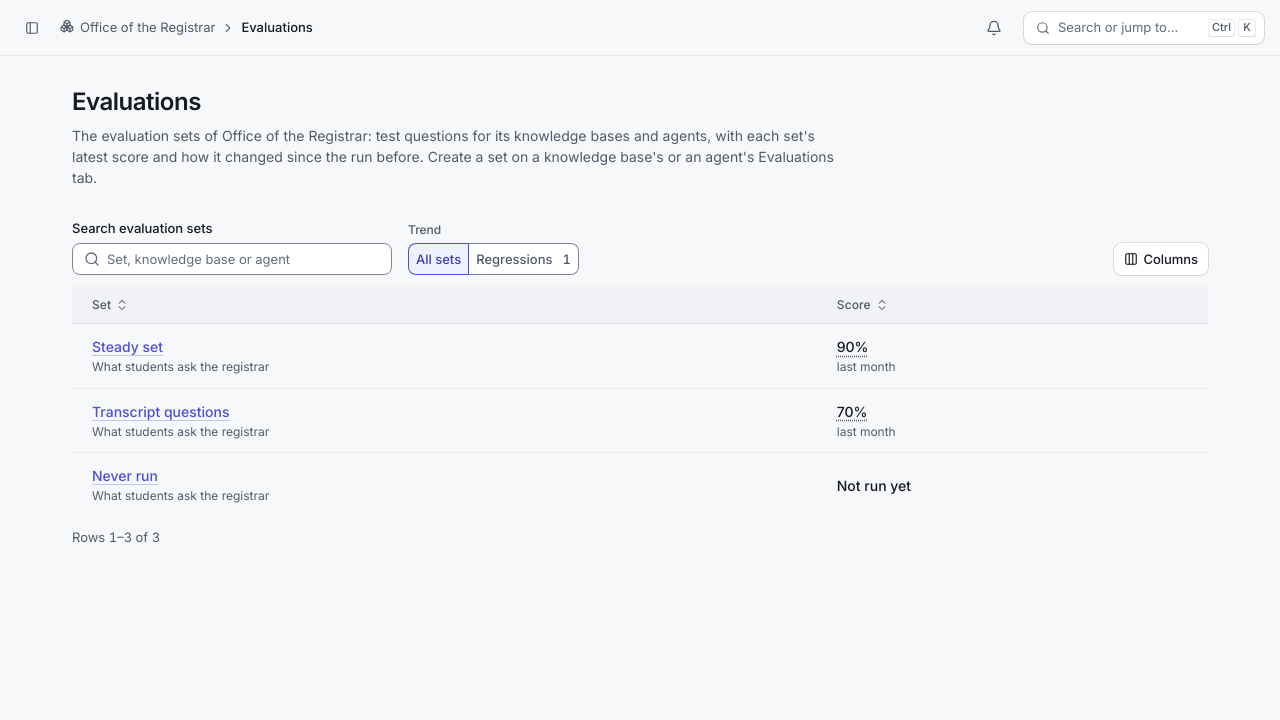
Test case: the team's Evaluations page (I3) › on a phone starts without its low-priority columns, and a Columns menu brings them back (G19)
The image size is (1280, 720).
Expected: the column headings read "Set", "Score", in this order, [72,287,821,324]; [821,287,1208,324]
Click the button "Columns" at coordinates (1161, 259), box [1114,243,1208,275]
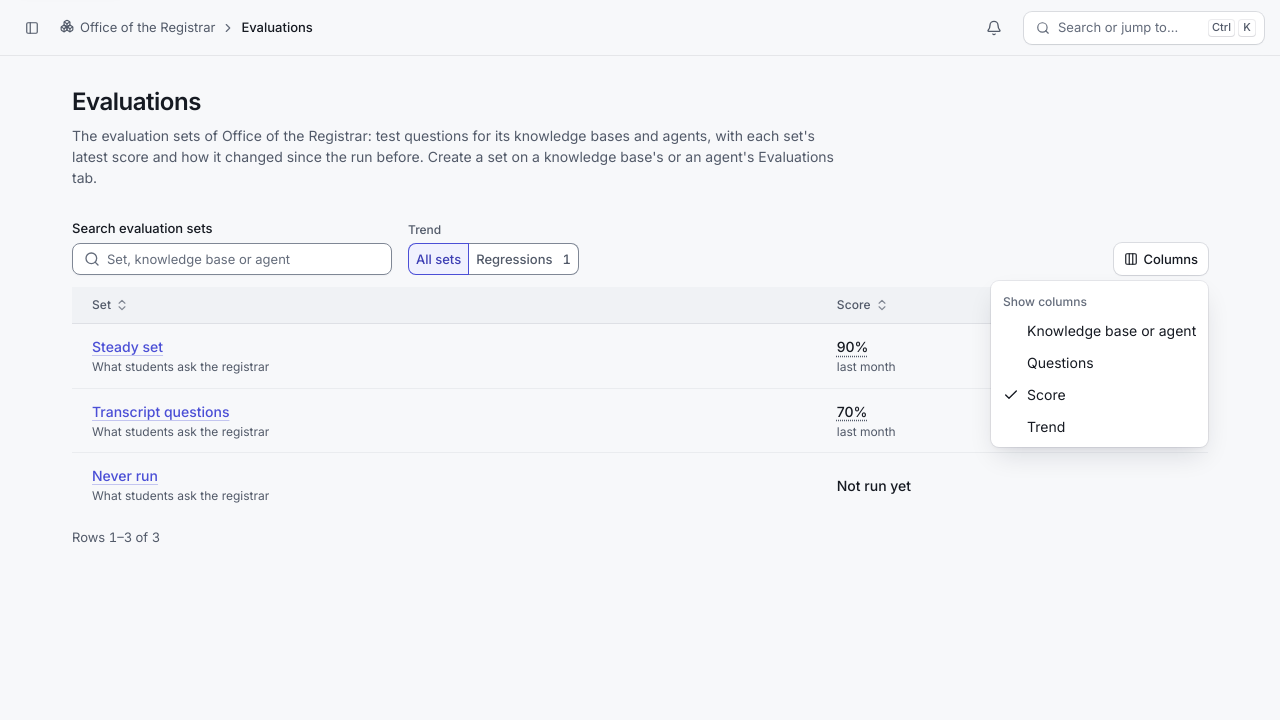
Click the menu item "Trend" at coordinates (1046, 426), box [1027,418,1065,435]
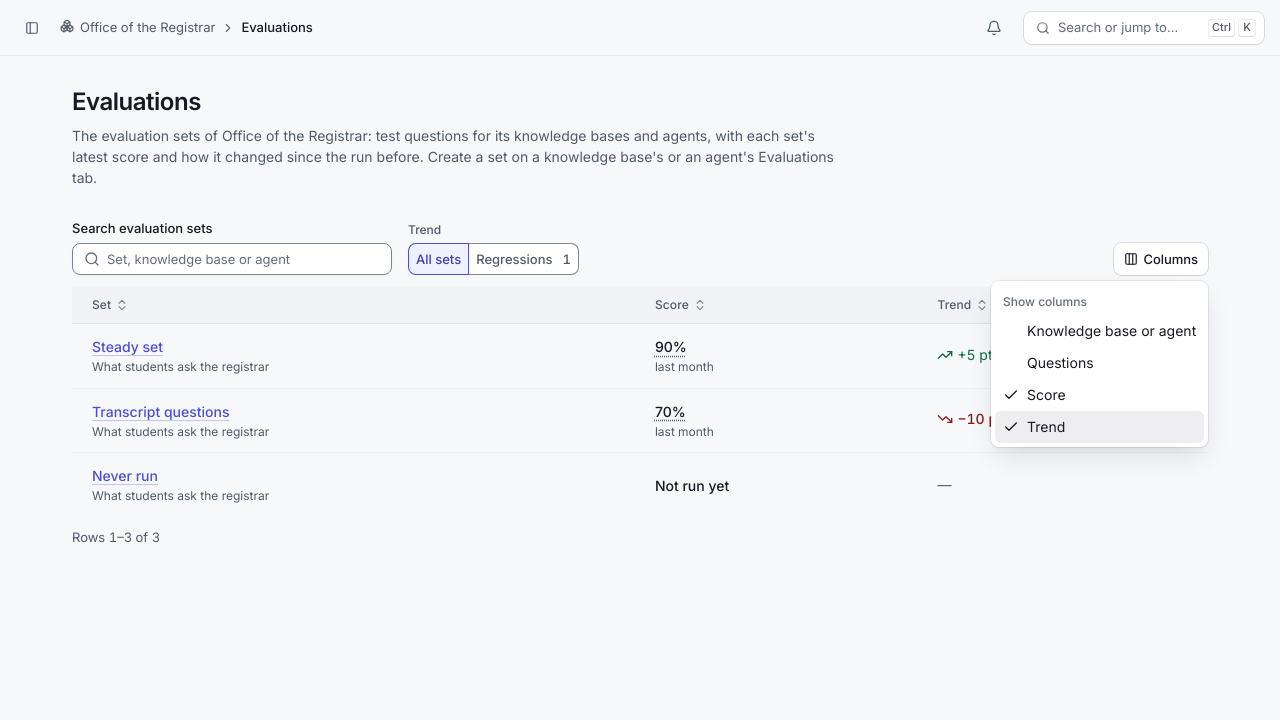
Result: the column headings read "Set", "Score", "Trend", in this order at [72,287,639,324]; [639,287,921,324]; [921,287,1208,324]
